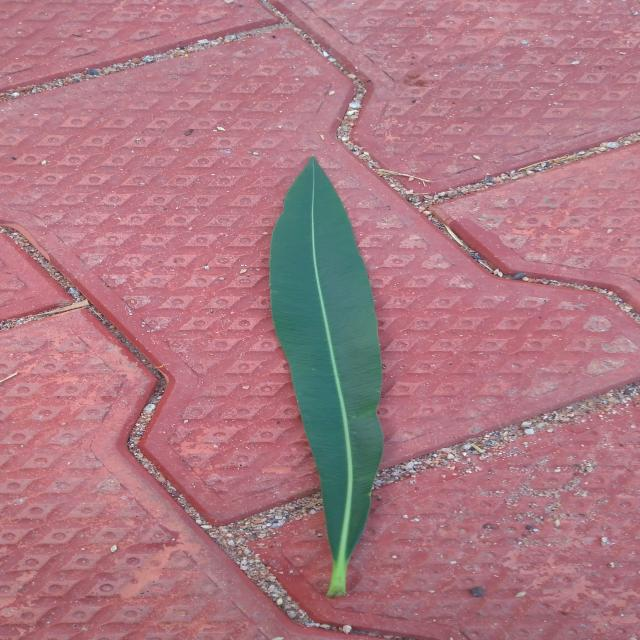ganigale: (269, 158, 382, 598)
